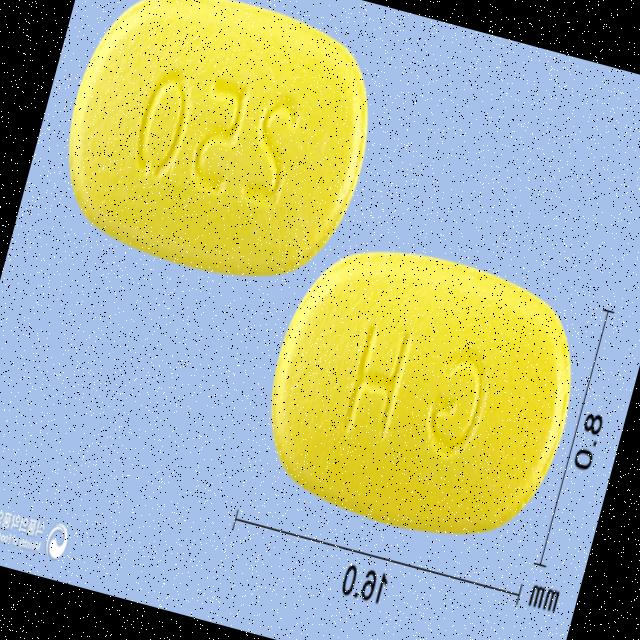Clana: (236, 216, 603, 569), (37, 0, 397, 310)
